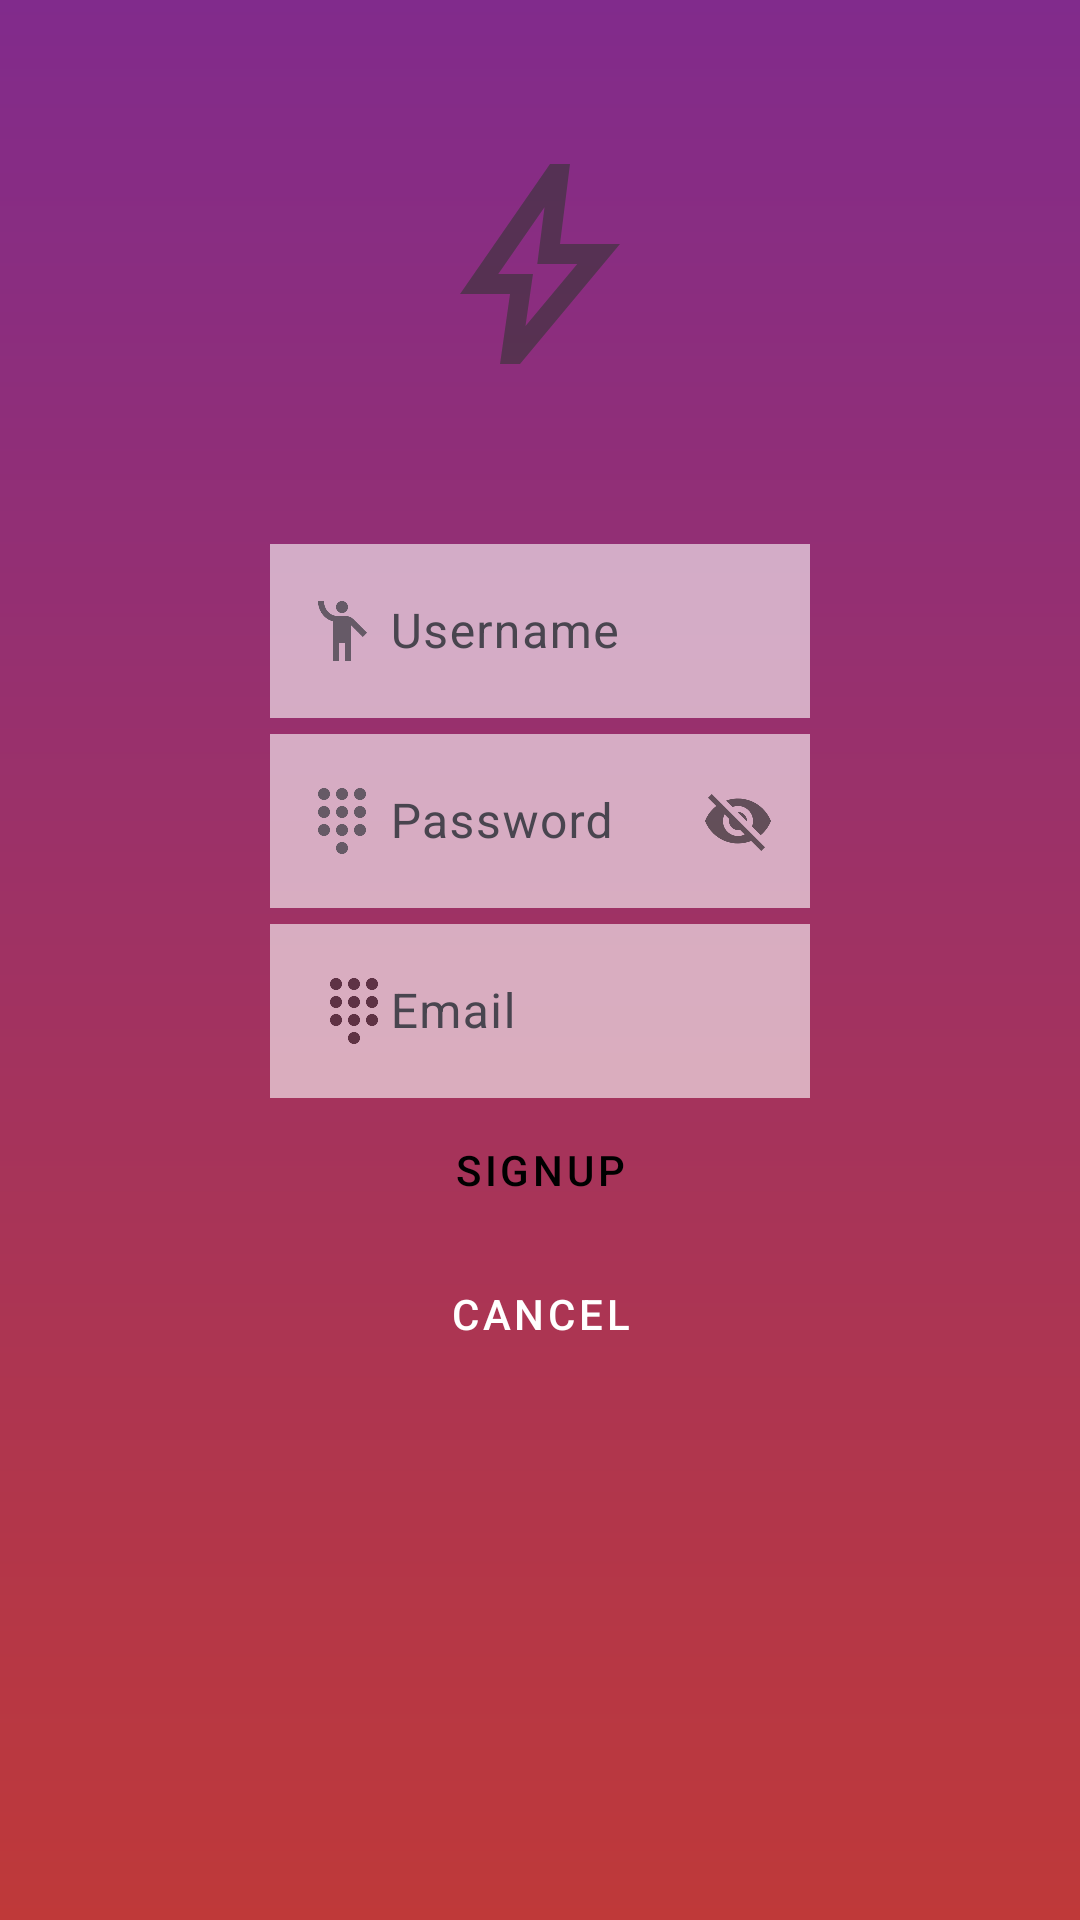

Icons on this 1080*1920 Android screen, each with the point to tap as point (x, y):
thunder: point (540, 264)
